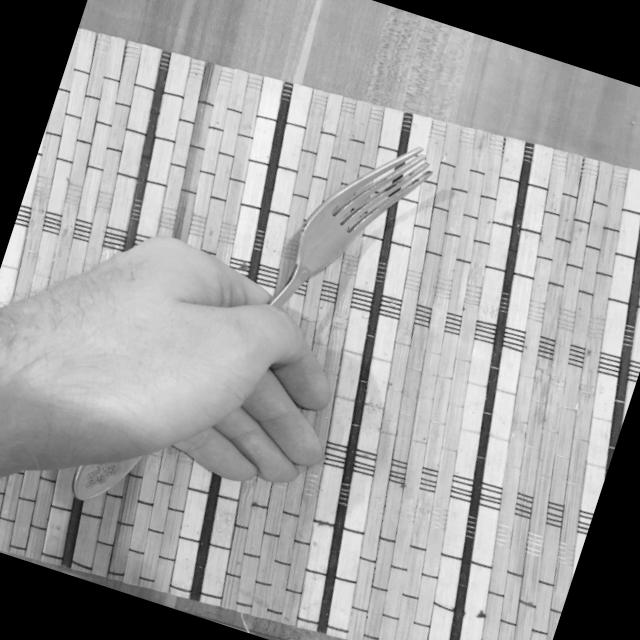fork: (67, 78, 441, 578)
